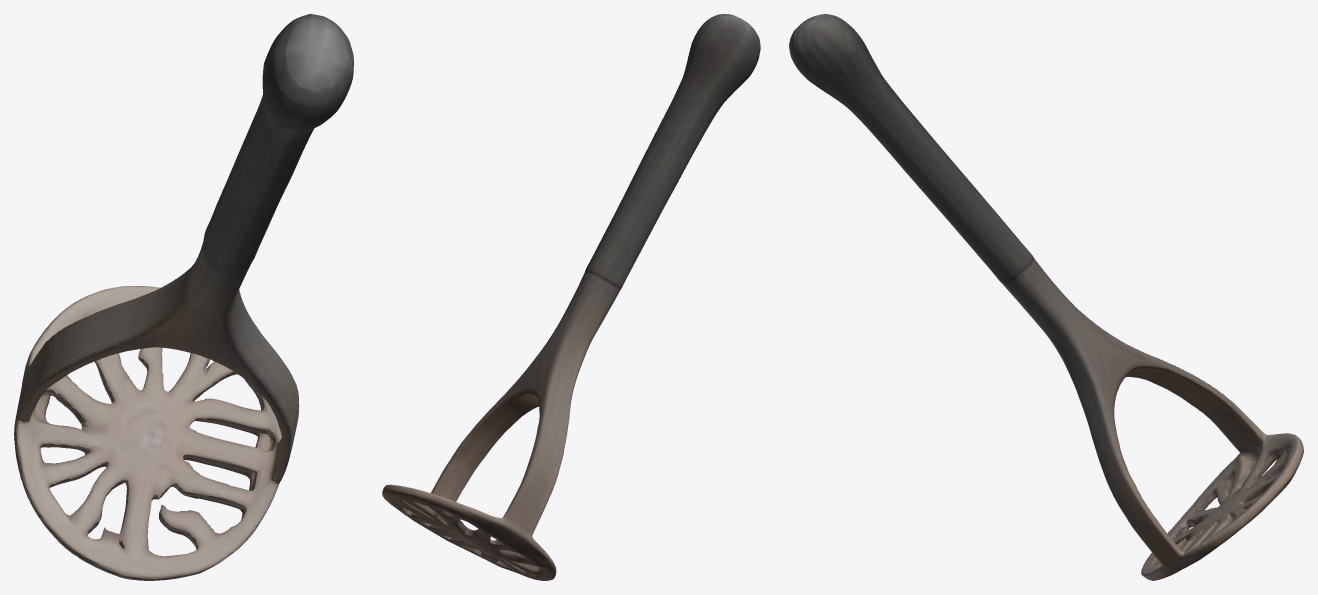
Rendered from frame_0010_source_000010_object.glb.
3 views of the same model, side by side, from view 1: azimuth 30°, elevation 25°; view 2: azimuth 150°, elevation 25°; view 3: azimuth 270°, elevation 25° (orthographic). The views are drawn at different scales.
Parts seen in each view (by area): view 1: world; view 2: world; view 3: world.
Boxes of the visible parts, left/top/right/bottom form: world: left=14, top=14, right=353, bottom=580; world: left=382, top=14, right=760, bottom=580; world: left=789, top=14, right=1303, bottom=580.
Size of the model in its own units: 0.0903 by 0.2194 by 0.1969.
